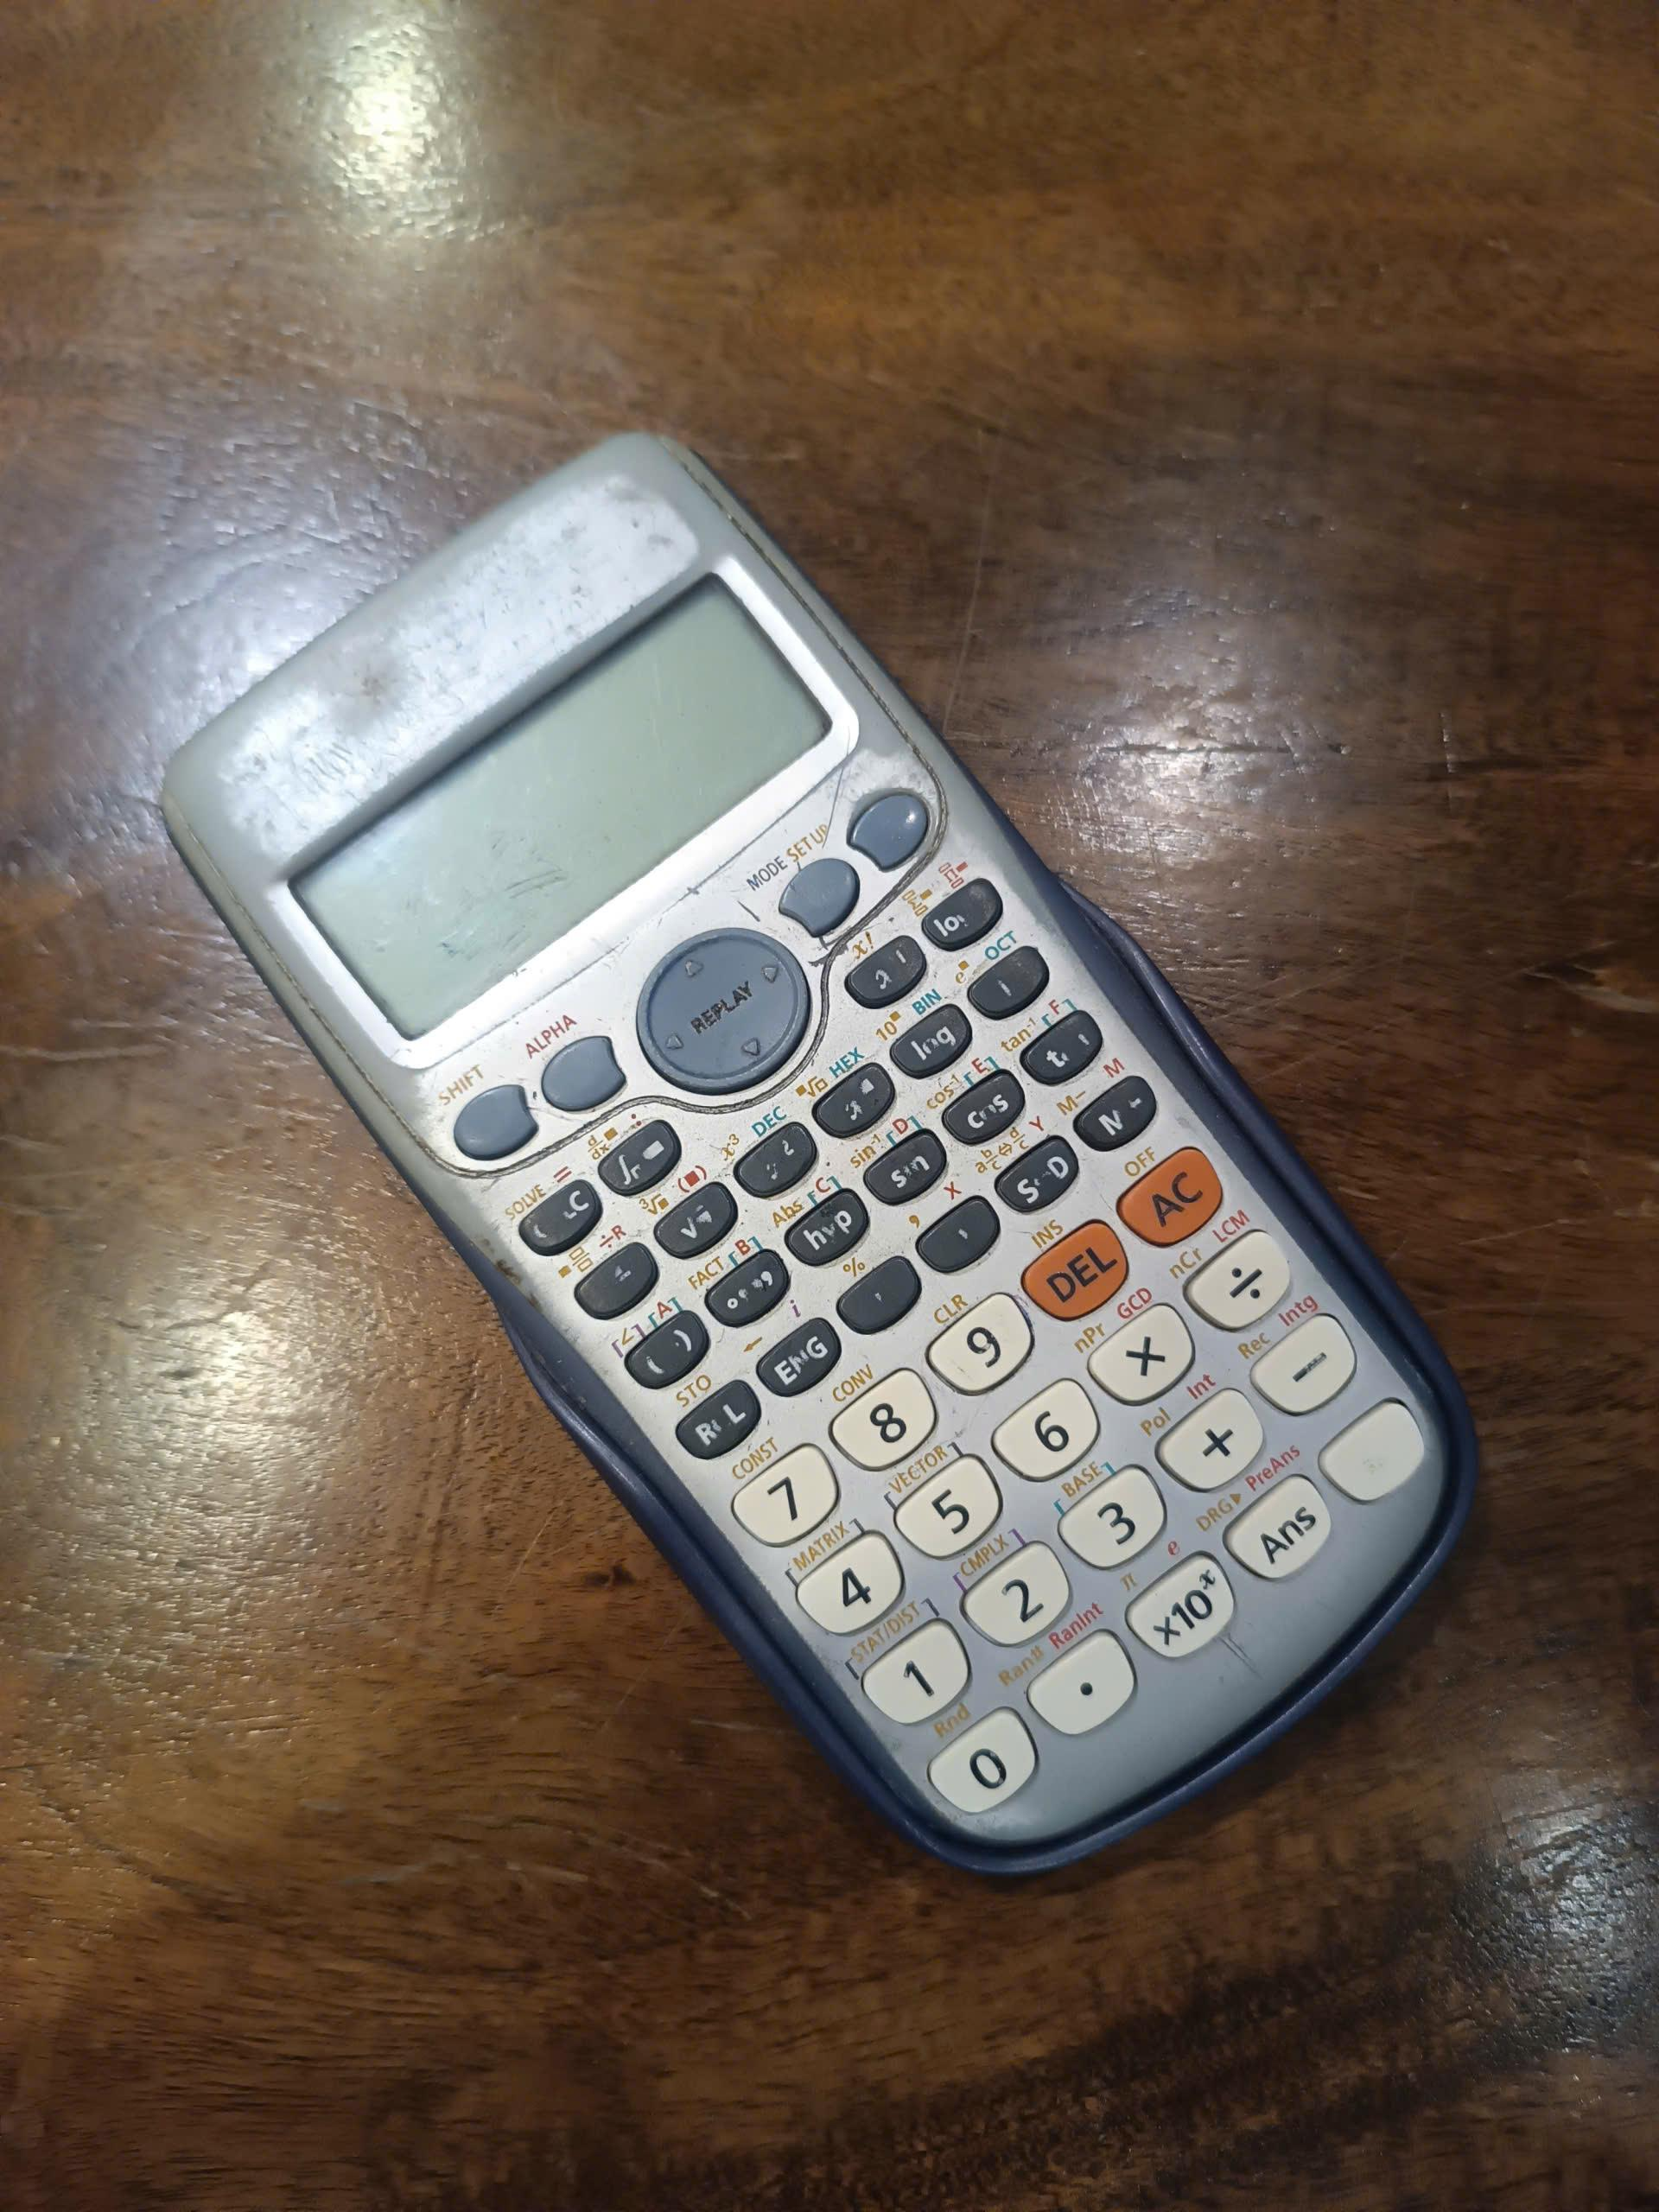Con lai: (152, 442, 1469, 1867)
